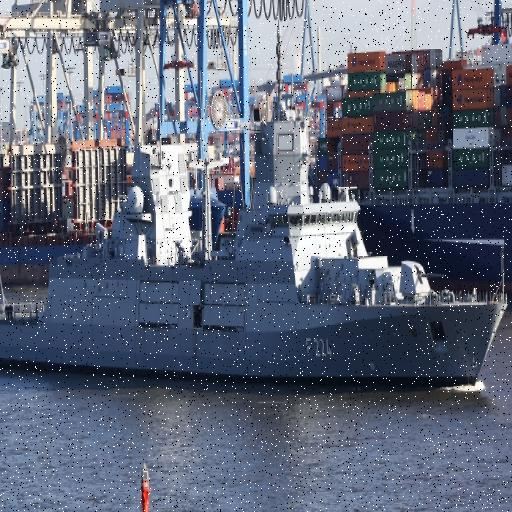Fragata: (1, 22, 510, 395)
